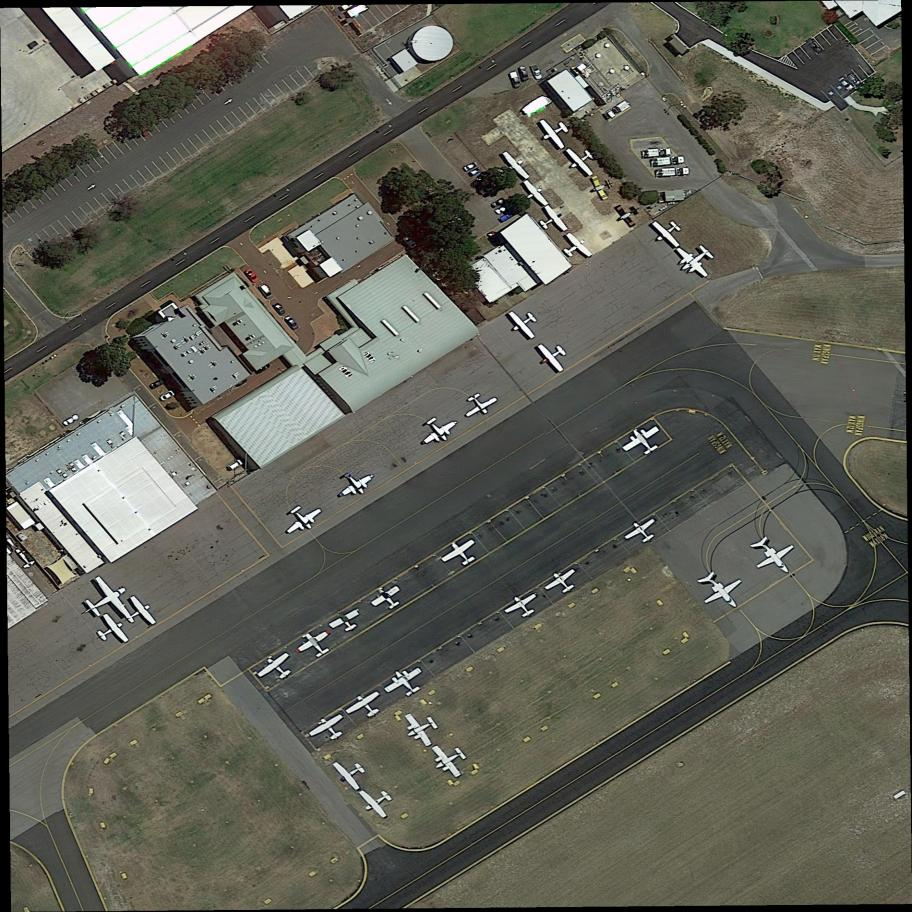large-vehicle: (602, 99, 632, 123), (656, 167, 689, 178), (640, 148, 672, 159), (650, 157, 685, 167)
plane: (67, 566, 142, 642), (692, 558, 754, 621), (743, 524, 804, 587), (667, 232, 723, 288), (424, 732, 476, 787), (274, 493, 327, 544), (326, 461, 380, 510), (398, 702, 448, 753), (409, 407, 462, 455), (110, 589, 160, 639), (617, 417, 669, 465), (529, 331, 576, 379), (643, 208, 690, 255), (251, 646, 300, 691), (381, 661, 430, 705), (329, 750, 374, 797), (292, 623, 339, 668), (437, 532, 485, 576), (354, 778, 399, 824), (500, 301, 545, 347), (88, 607, 132, 653), (455, 383, 503, 425), (307, 709, 353, 751), (533, 110, 575, 154), (502, 587, 546, 628), (542, 563, 587, 603), (343, 686, 388, 726), (366, 578, 408, 619), (559, 138, 600, 180), (620, 513, 663, 550), (327, 604, 368, 641), (514, 175, 552, 214), (533, 201, 571, 239), (557, 228, 596, 265), (497, 147, 533, 185), (611, 197, 645, 233), (586, 170, 618, 205)
small-vehicle: (157, 388, 176, 404), (225, 458, 244, 474), (806, 38, 823, 55), (243, 268, 259, 286), (61, 413, 80, 428), (838, 76, 854, 92), (148, 377, 166, 391), (258, 284, 273, 300), (285, 315, 299, 331), (530, 64, 543, 81), (517, 66, 530, 83), (509, 71, 521, 89), (272, 302, 286, 317), (463, 161, 479, 173), (848, 73, 861, 87), (492, 198, 506, 209), (470, 166, 482, 177), (495, 205, 507, 216)
storage-tank: (410, 26, 455, 61)
